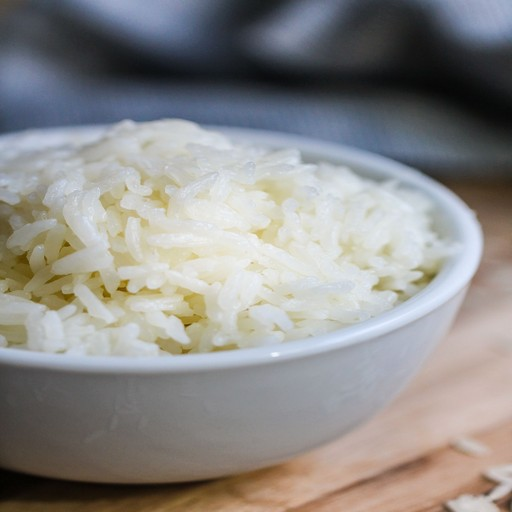rice: (30, 161, 239, 343)
